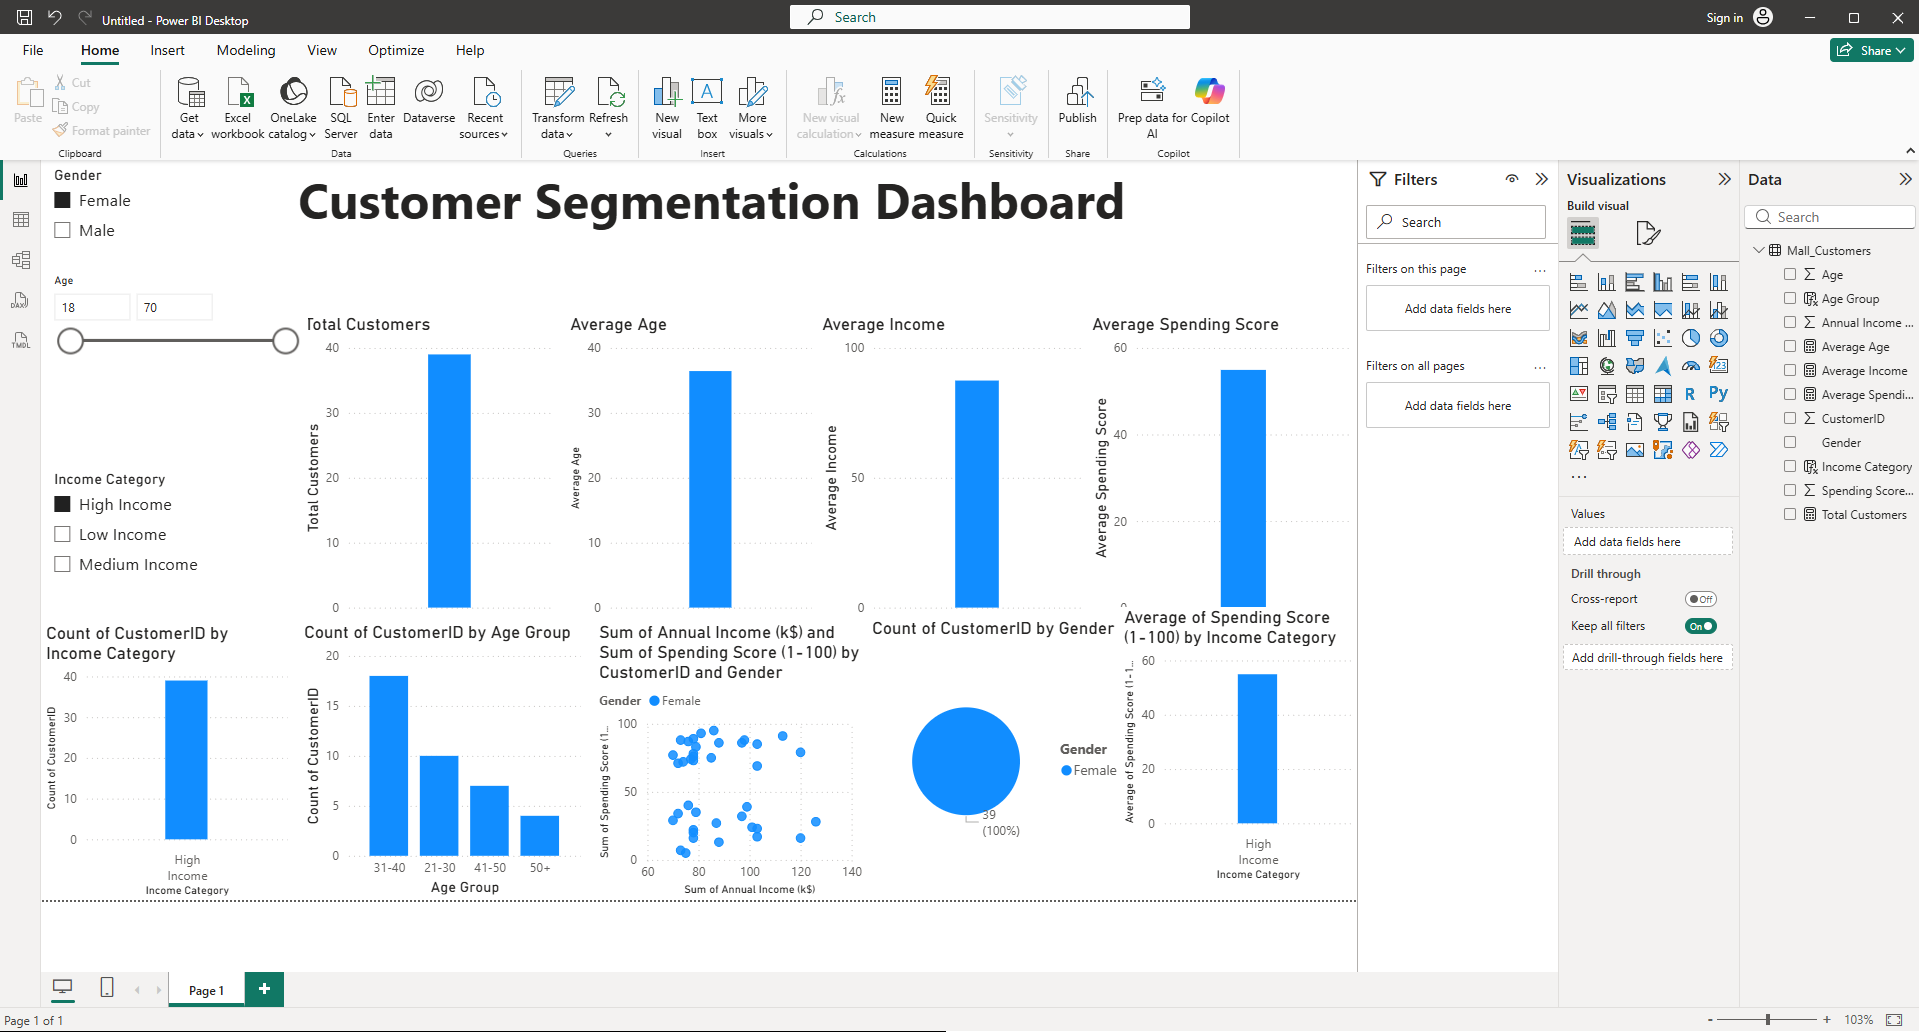

The page's visual inventory and layout, read from the dashboard file:
{"tool":"powerbi","page":{"name":"Page 1","canvas":[1280,720],"ordinal":0},"visuals":[{"type":"clusteredColumnChart","fields":{"Y":["Mall_Customers.Total Customers"]},"box":[250.9,149.5,250.9,299.6],"z":0},{"type":"clusteredColumnChart","fields":{"Y":["Mall_Customers.Average Age"]},"box":[509.7,149.5,245.1,299.6],"z":1000},{"type":"clusteredColumnChart","fields":{"Y":["Mall_Customers.Average Spending Score"]},"box":[1017.4,149.5,262.6,299.6],"z":2000},{"type":"clusteredColumnChart","fields":{"Y":["Mall_Customers.Average Income"]},"box":[754.8,149.5,262.6,299.6],"z":3000},{"type":"pieChart","fields":{"Category":["Mall_Customers.Gender"],"Y":["CountNonNull(Mall_Customers.CustomerID)"]},"box":[803.4,445.2,258.7,259.7],"z":4000},{"type":"clusteredColumnChart","fields":{"Category":["Mall_Customers.Age Group"],"Y":["CountNonNull(Mall_Customers.CustomerID)"]},"box":[250.9,449.4,279.1,270.4],"z":5000},{"type":"scatterChart","fields":{"X":["Sum(Mall_Customers.Annual Income (k$))"],"Category":["Mall_Customers.CustomerID"],"Y":["Sum(Mall_Customers.Spending Score (1-100))"],"Series":["Mall_Customers.Gender"]},"box":[537.9,449.1,265.5,270.4],"z":6000},{"type":"clusteredColumnChart","fields":{"Category":["Mall_Customers.Income Category"],"Y":["CountNonNull(Mall_Customers.CustomerID)"]},"box":[0,449.8,245.1,270.4],"z":7000},{"type":"clusteredColumnChart","fields":{"Category":["Mall_Customers.Income Category"],"Y":["Avg(Mall_Customers.Spending Score (1-100))"]},"box":[1048.5,434.5,231.5,270.4],"z":8000},{"type":"slicer","fields":{"Values":["Mall_Customers.Age"]},"box":[0,105.5,258.7,149.8],"z":9000},{"type":"slicer","fields":{"Values":["Mall_Customers.Gender"]},"box":[0,0.5,250.9,105],"z":10000},{"type":"slicer","fields":{"Values":["Mall_Customers.Income Category"]},"box":[0,296.2,250.9,149.8],"z":11000},{"type":"textbox","box":[530.1,705.2,7.8,14.6],"z":12000},{"type":"textbox","box":[245.1,0,828.7,76.8],"z":13000}]}

Visuals, with their boxes on the page's 1280x720 design canvas (x1, y1, x2, y2). These are canvas units, not pixel positions in the 1919x1032 screenshot, which may show the page scaled, cropped or inside an application window:
clusteredColumnChart - Mall_Customers.Total Customers: bbox=[251, 150, 502, 449]
clusteredColumnChart - Mall_Customers.Average Age: bbox=[510, 150, 755, 449]
clusteredColumnChart - Mall_Customers.Average Spending Score: bbox=[1017, 150, 1280, 449]
clusteredColumnChart - Mall_Customers.Average Income: bbox=[755, 150, 1017, 449]
pieChart - Mall_Customers.Gender x CountNonNull(Mall_Customers.CustomerID): bbox=[803, 445, 1062, 705]
clusteredColumnChart - Mall_Customers.Age Group x CountNonNull(Mall_Customers.CustomerID): bbox=[251, 449, 530, 720]
scatterChart - Sum(Mall_Customers.Annual Income (k$)) x Mall_Customers.CustomerID: bbox=[538, 449, 803, 720]
clusteredColumnChart - Mall_Customers.Income Category x CountNonNull(Mall_Customers.CustomerID): bbox=[0, 450, 245, 720]
clusteredColumnChart - Mall_Customers.Income Category x Avg(Mall_Customers.Spending Score (1-100)): bbox=[1048, 434, 1280, 705]
slicer - Mall_Customers.Age: bbox=[0, 106, 259, 255]
slicer - Mall_Customers.Gender: bbox=[0, 0, 251, 106]
slicer - Mall_Customers.Income Category: bbox=[0, 296, 251, 446]
textbox: bbox=[530, 705, 538, 720]
textbox: bbox=[245, 0, 1074, 77]
